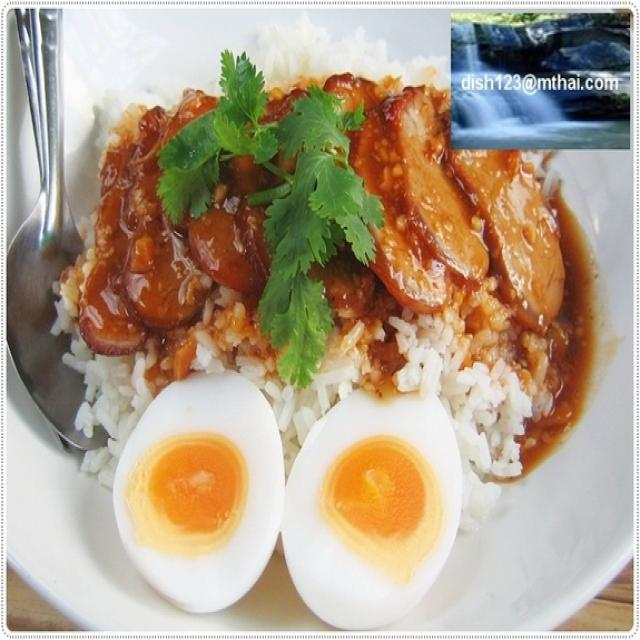猪肉菜式: (53, 41, 598, 608)
